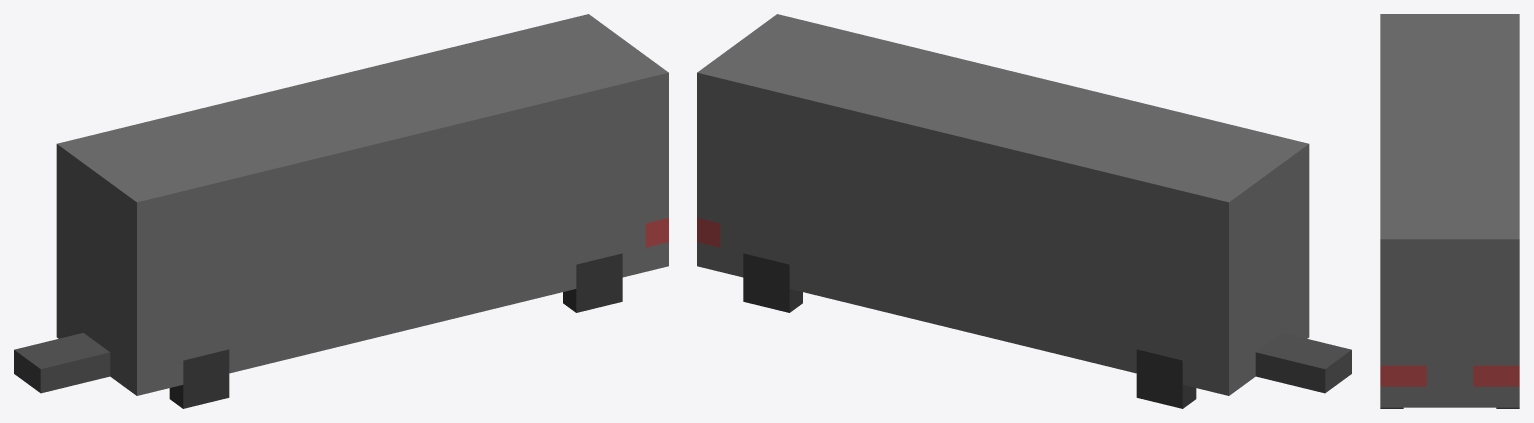
Rendered from truck-trailer-v1-grey.gltf.
3 views of the same model, side by side, from view 1: azimuth 30°, elevation 25°; view 2: azimuth 150°, elevation 25°; view 3: azimuth 270°, elevation 25° (orthographic). The views are drawn at different scales.
Visible parts, largest first — view 1: model, wheels; view 2: model, wheels; view 3: model.
Part boxes in pixels (bbox=[...]): model: bbox=[14, 14, 668, 395]; wheels: bbox=[169, 253, 622, 408]; model: bbox=[697, 14, 1351, 395]; wheels: bbox=[743, 253, 1196, 408]; model: bbox=[1380, 14, 1519, 407].
Size of the model in its own units: 2.6 by 0.9 by 0.6.
Materials: 2 (2 with a texture image).
